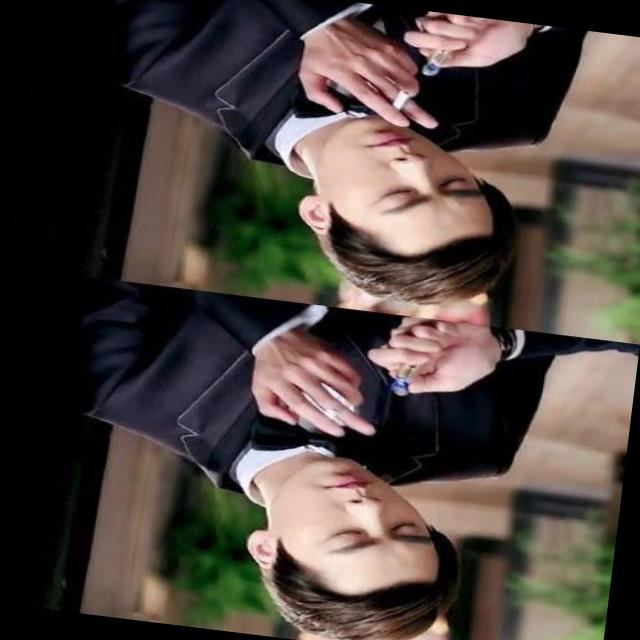smoke: (285, 388, 358, 439), (385, 70, 430, 130)
